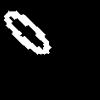chain: (4, 11, 50, 53)
